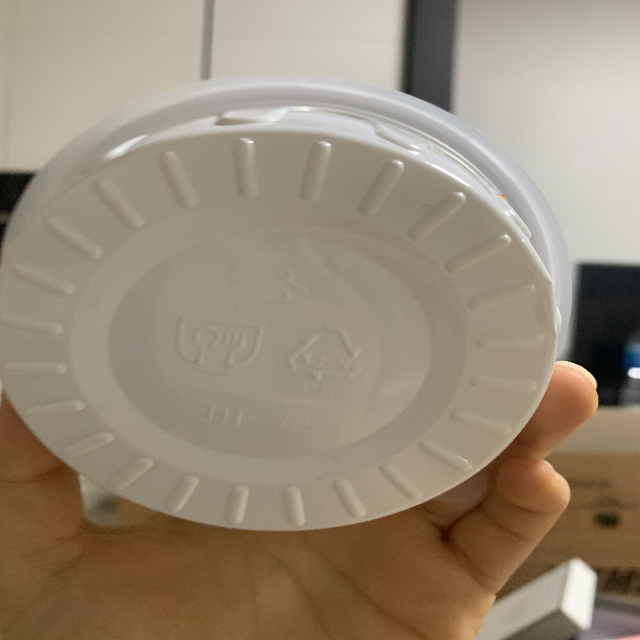ps: (283, 316, 366, 401)
